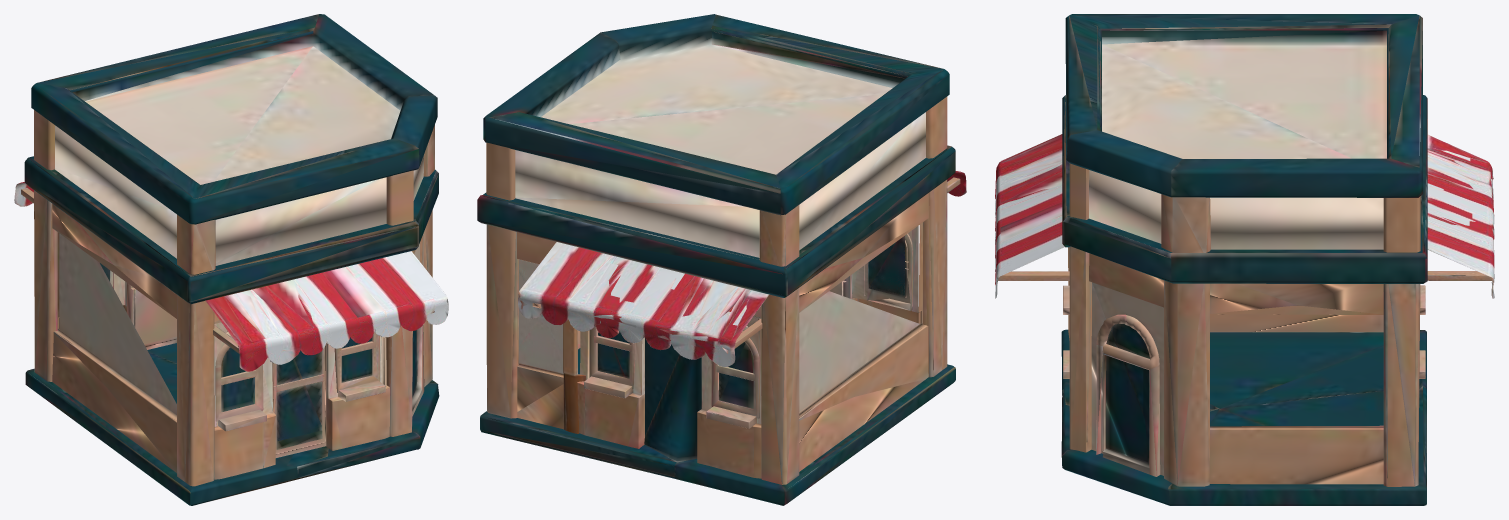
The model's file is 09-corner-shop.glb.
3 views of the same model, side by side, from view 1: azimuth 30°, elevation 25°; view 2: azimuth 150°, elevation 25°; view 3: azimuth 270°, elevation 25° (orthographic). The views are drawn at different scales.
Visible parts, largest first — view 1: geometry_0; view 2: geometry_0; view 3: geometry_0.
Boxes of the visible parts, box(x1,y1,x2,y2) form: geometry_0: box(14, 14, 448, 505); geometry_0: box(477, 14, 966, 505); geometry_0: box(995, 14, 1494, 505).
Size of the model in its own units: 0.726 by 0.7037 by 0.9492.
1 material, 1 textured.
